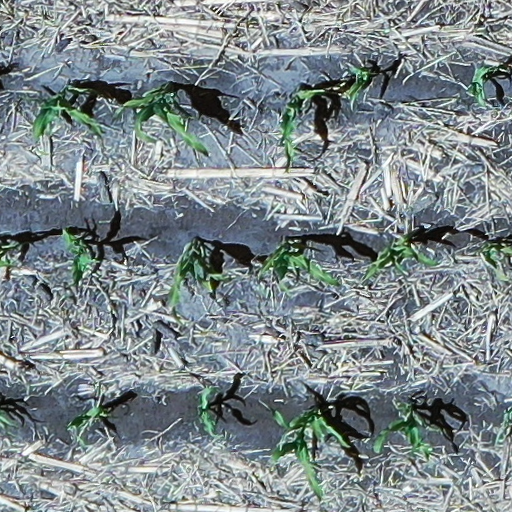planta: (269, 409, 347, 497), (116, 88, 207, 153), (259, 244, 339, 297), (167, 244, 229, 307), (32, 85, 103, 139), (373, 402, 433, 457), (363, 234, 436, 278), (280, 88, 320, 162), (66, 404, 108, 451), (62, 229, 95, 284), (468, 65, 497, 105), (197, 386, 218, 438), (347, 65, 369, 101)
